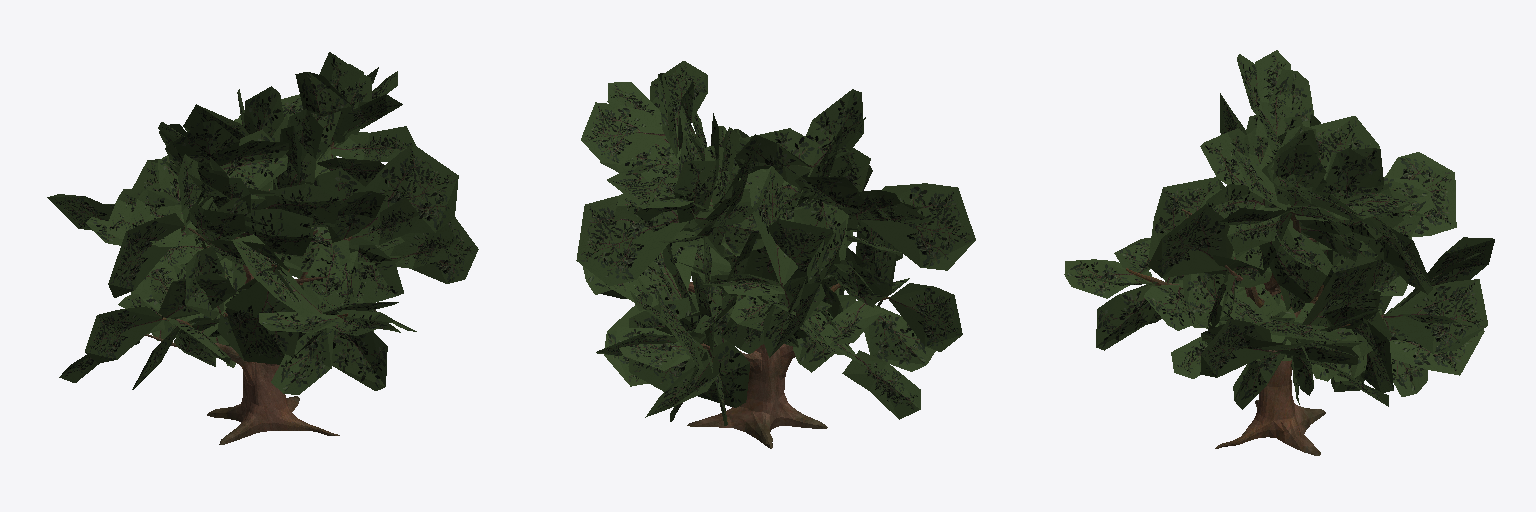
3 views of the same model, side by side, from view 1: azimuth 30°, elevation 25°; view 2: azimuth 150°, elevation 25°; view 3: azimuth 270°, elevation 25° (orthographic).
Visible parts, largest first — view 1: Object353, Box001, Object385, Object314, Object420, Object436, Object349, Object336, Object334, Object434, Object303, Object410 (+28 smaller); view 2: Object314, Object282, Box001, Object275, Object420, Object365, Object382, Object403, Object318, Object290, Object381, Object378 (+28 smaller); view 3: Object428, Box001, Object353, Object360, Object343, Object334, Object436, Object434, Object396, Object283, Object292, Object426 (+28 smaller).
Part boxes in pixels (left/top/right/bottom): Object353: left=363, top=144, right=458, bottom=232; Box001: left=145, top=142, right=351, bottom=444; Object385: left=217, top=266, right=298, bottom=364; Object314: left=108, top=213, right=184, bottom=297; Object420: left=85, top=306, right=162, bottom=363; Object436: left=314, top=329, right=387, bottom=390; Object349: left=271, top=329, right=333, bottom=394; Object336: left=303, top=248, right=358, bottom=311; Object334: left=390, top=217, right=478, bottom=283; Object434: left=232, top=234, right=322, bottom=316; Object303: left=265, top=184, right=340, bottom=226; Object410: left=355, top=245, right=403, bottom=302; Object314: left=862, top=183, right=975, bottom=270; Object282: left=576, top=196, right=688, bottom=286; Box001: left=687, top=163, right=888, bottom=448; Object275: left=581, top=102, right=665, bottom=164; Object420: left=889, top=283, right=962, bottom=351; Object365: left=842, top=350, right=920, bottom=419; Object382: left=744, top=219, right=840, bottom=285; Object403: left=864, top=305, right=935, bottom=371; Object318: left=749, top=166, right=797, bottom=285; Object290: left=805, top=89, right=863, bottom=165; Object381: left=629, top=296, right=715, bottom=391; Object378: left=698, top=340, right=749, bottom=407; Object428: left=1383, top=279, right=1487, bottom=353; Box001: left=1126, top=131, right=1384, bottom=455; Object353: left=1148, top=204, right=1233, bottom=277; Object360: left=1385, top=152, right=1456, bottom=236; Object343: left=1259, top=225, right=1332, bottom=302; Object334: left=1200, top=319, right=1272, bottom=377; Object436: left=1096, top=282, right=1157, bottom=350; Object434: left=1149, top=177, right=1224, bottom=283; Object396: left=1298, top=256, right=1377, bottom=342; Object283: left=1322, top=148, right=1381, bottom=221; Object292: left=1255, top=50, right=1291, bottom=137; Object426: left=1400, top=237, right=1494, bottom=306.
Bounding box in the file's own units: 43262 × 38439 × 44072.
Materials: 2 (2 with a texture image).